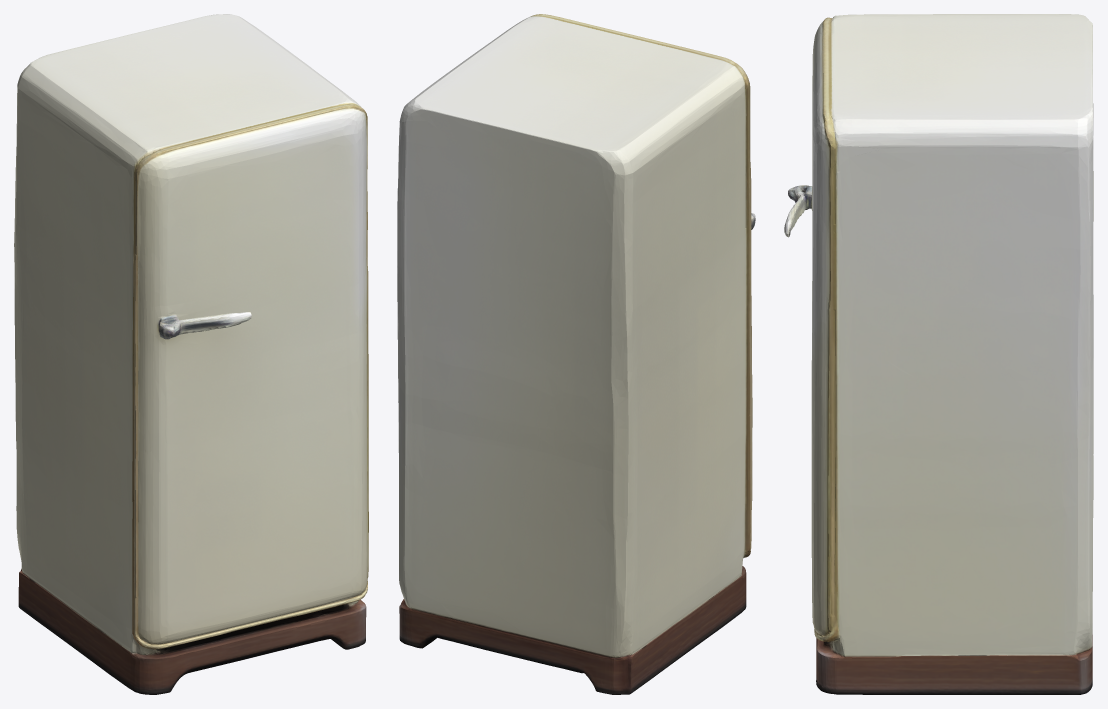
Rendered from fridge.glb.
3 views of the same model, side by side, from view 1: azimuth 30°, elevation 25°; view 2: azimuth 150°, elevation 25°; view 3: azimuth 270°, elevation 25° (orthographic). The views are drawn at different scales.
Visible parts, largest first — view 1: world; view 2: world; view 3: world.
Boxes of the visible parts, box(x1,y1,x2,y2) form: world: box(14, 14, 368, 694); world: box(397, 14, 755, 694); world: box(784, 14, 1093, 694).
Size of the model in its own units: 0.4514 by 1 by 0.4933.
1 material, 1 textured.
